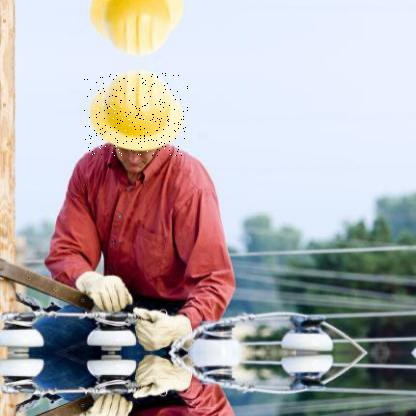safetyhelmet: (84, 74, 189, 158)
